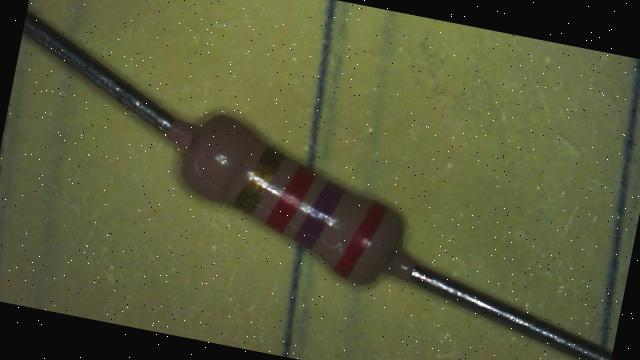gold: (232, 142, 284, 217)
red: (334, 197, 388, 282), (266, 162, 318, 236)
resistor: (153, 82, 441, 327)
violet: (294, 178, 344, 252)
